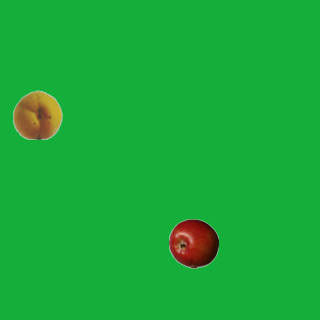Apple Braeburn: (168, 218, 218, 268)
Peach 2: (12, 89, 62, 139)
